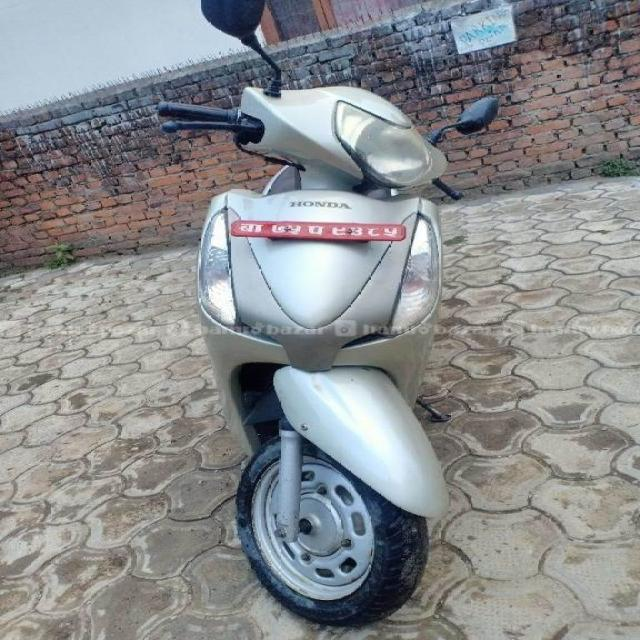License-plate: (225, 216, 406, 246)
